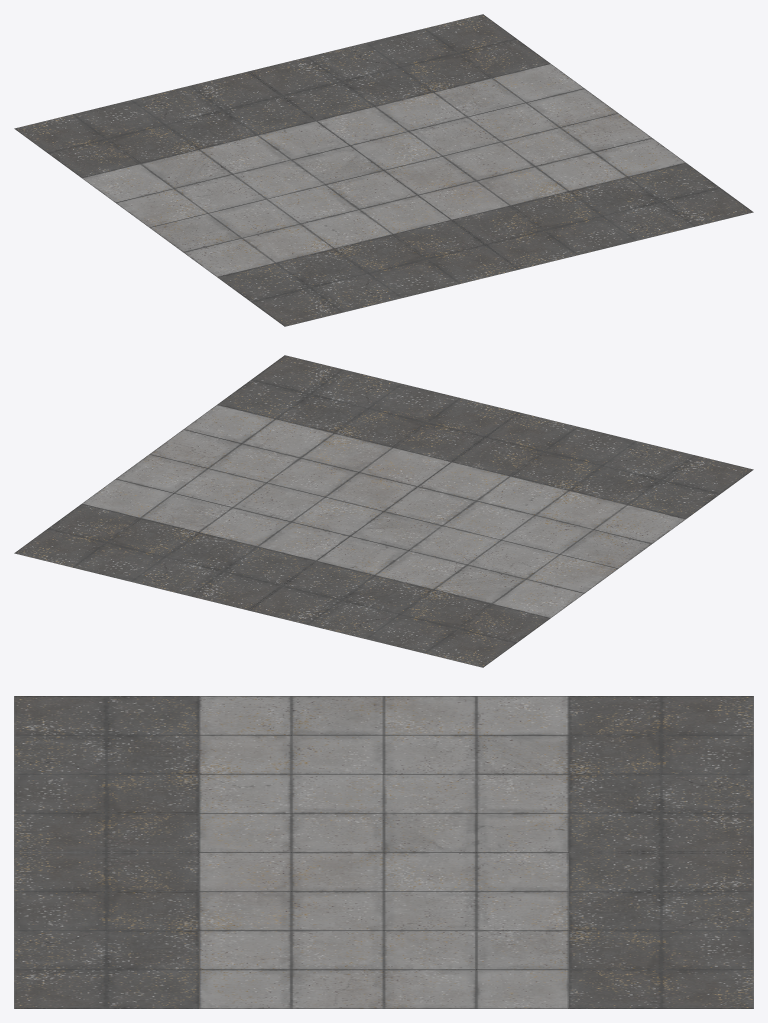
File: CP_Floor_Tiles_4x4m_02.fbx
3 views of the same model, one above another, from view 1: azimuth 30°, elevation 25°; view 2: azimuth 150°, elevation 25°; view 3: azimuth 270°, elevation 25° (orthographic). The views are drawn at different scales.
Parts seen in each view (by area): view 1: CP_Floor_Tiles_4x4m_02; view 2: CP_Floor_Tiles_4x4m_02; view 3: CP_Floor_Tiles_4x4m_02.
Boxes of the visible parts, x1,y1,x2,y2 form: CP_Floor_Tiles_4x4m_02: (14, 14, 753, 326); CP_Floor_Tiles_4x4m_02: (14, 355, 753, 667); CP_Floor_Tiles_4x4m_02: (14, 696, 753, 1008).
Size of the model in its own units: 400 by 0 by 400.
